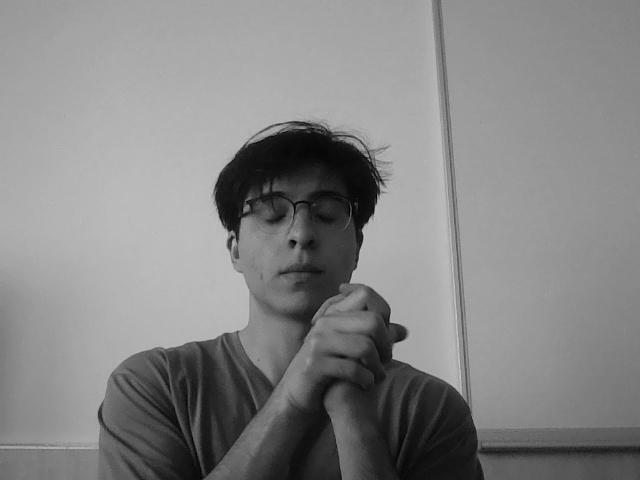friend: (272, 282, 414, 414)
